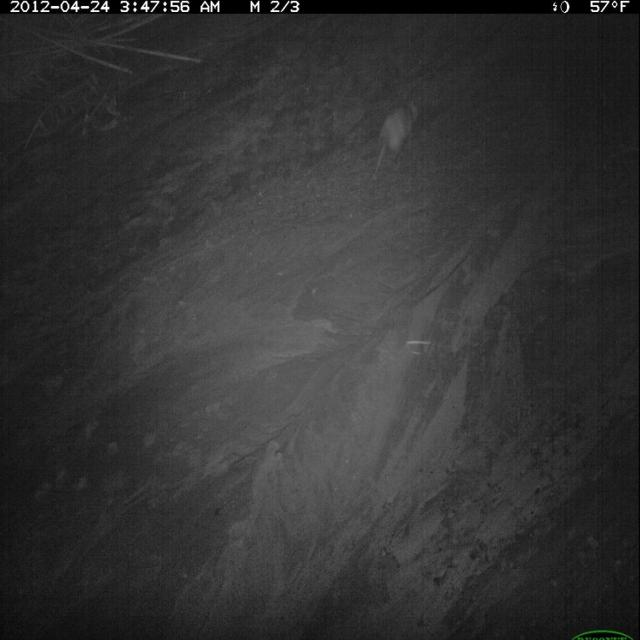opossum: (371, 93, 423, 194)
